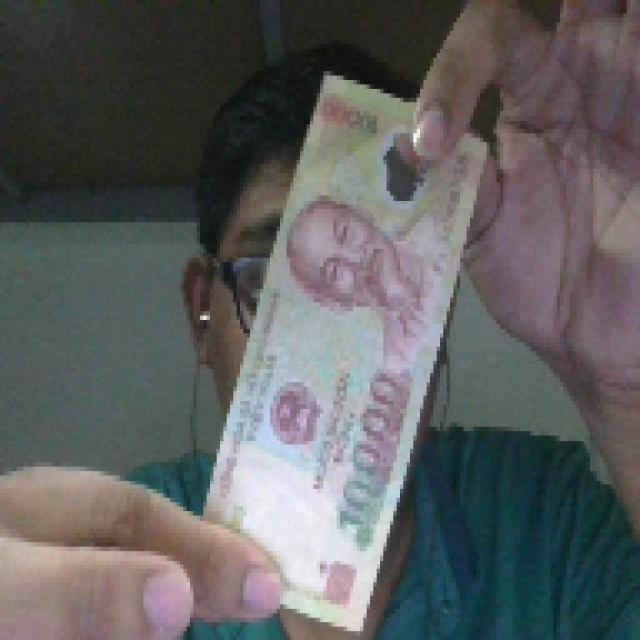10 000 VND: (197, 62, 490, 636)
